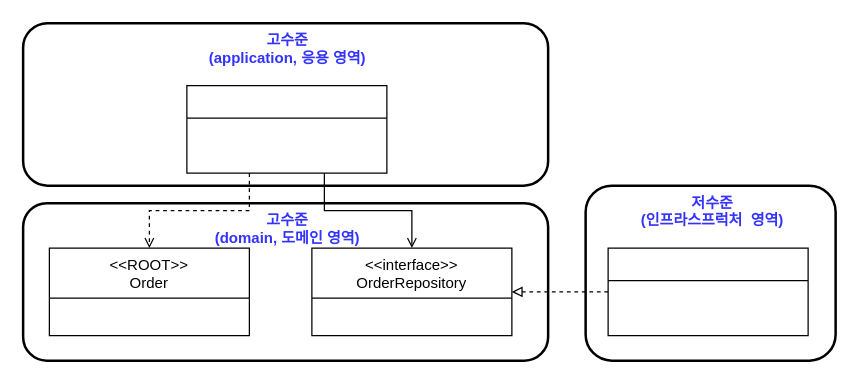
Image size: 858x383. Some labels were removed from this diagram. Here are the shapes that lost their labels. From the top down, the centre of each, then its label:
(286,128): CancelOrderService
(707,291): JpaOrderRepository
